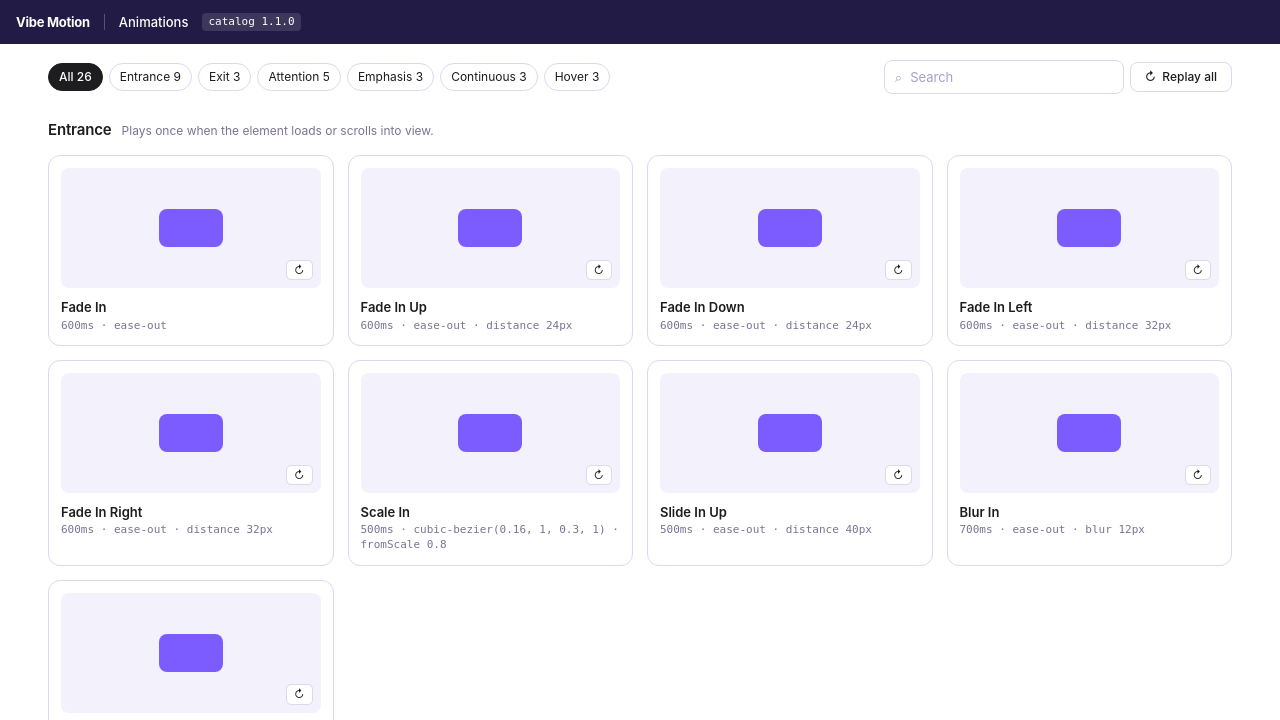
Test: HelpScreen › says so when nothing matches
Step 1. Type "zzz" into the search field named "Search animations" → (1011,77), box [910,68,1113,86]
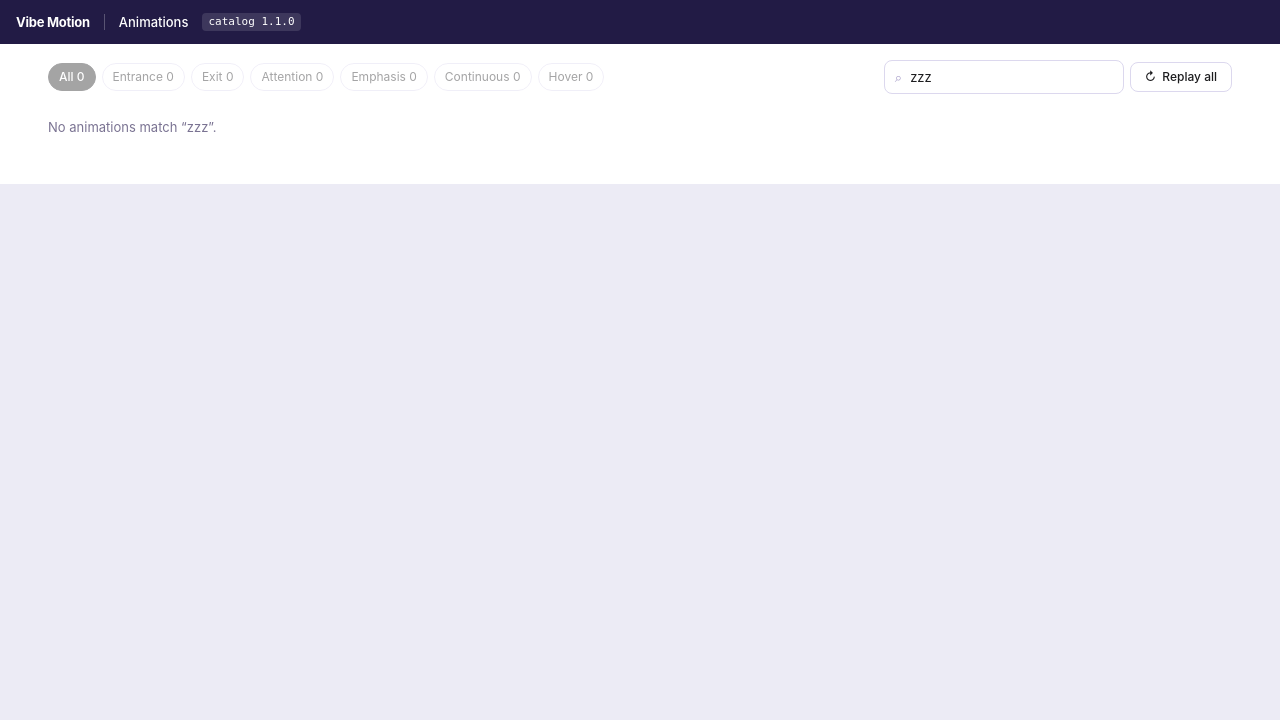
Result: no list items with test id "catalog-card" are shown
Result: the text "No animations match “zzz”." is shown at [48,119,216,135]
